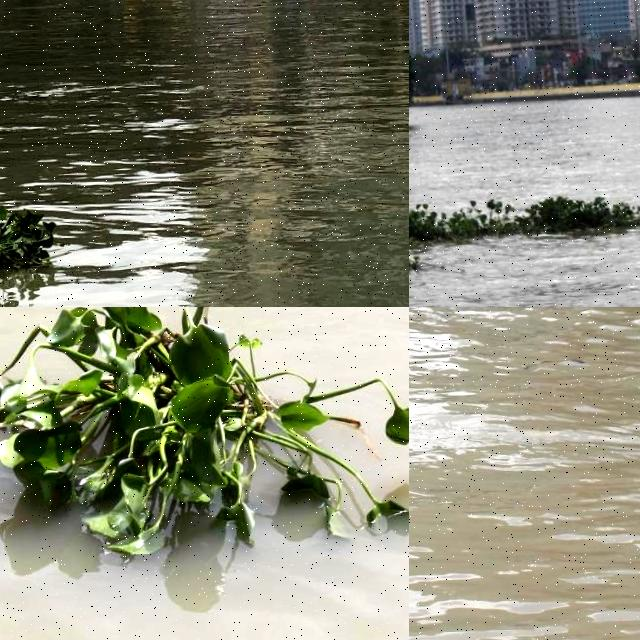water-hyacinth: (1, 308, 410, 575), (410, 187, 640, 255), (1, 189, 131, 295)
